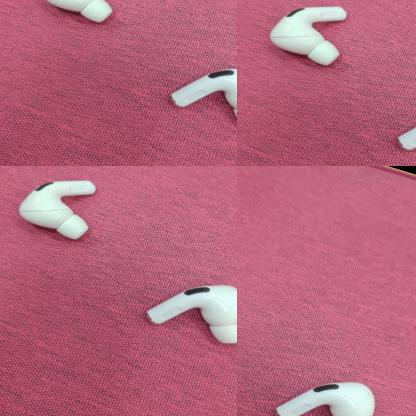Airpods: (36, 176, 168, 326), (292, 47, 416, 166), (150, 237, 237, 371), (255, 342, 404, 416)
